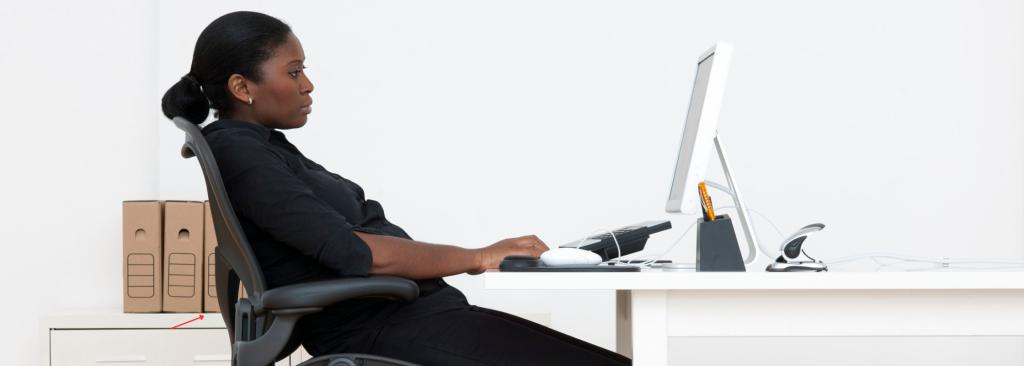Bad Sitting Posture: (143, 12, 729, 363)
